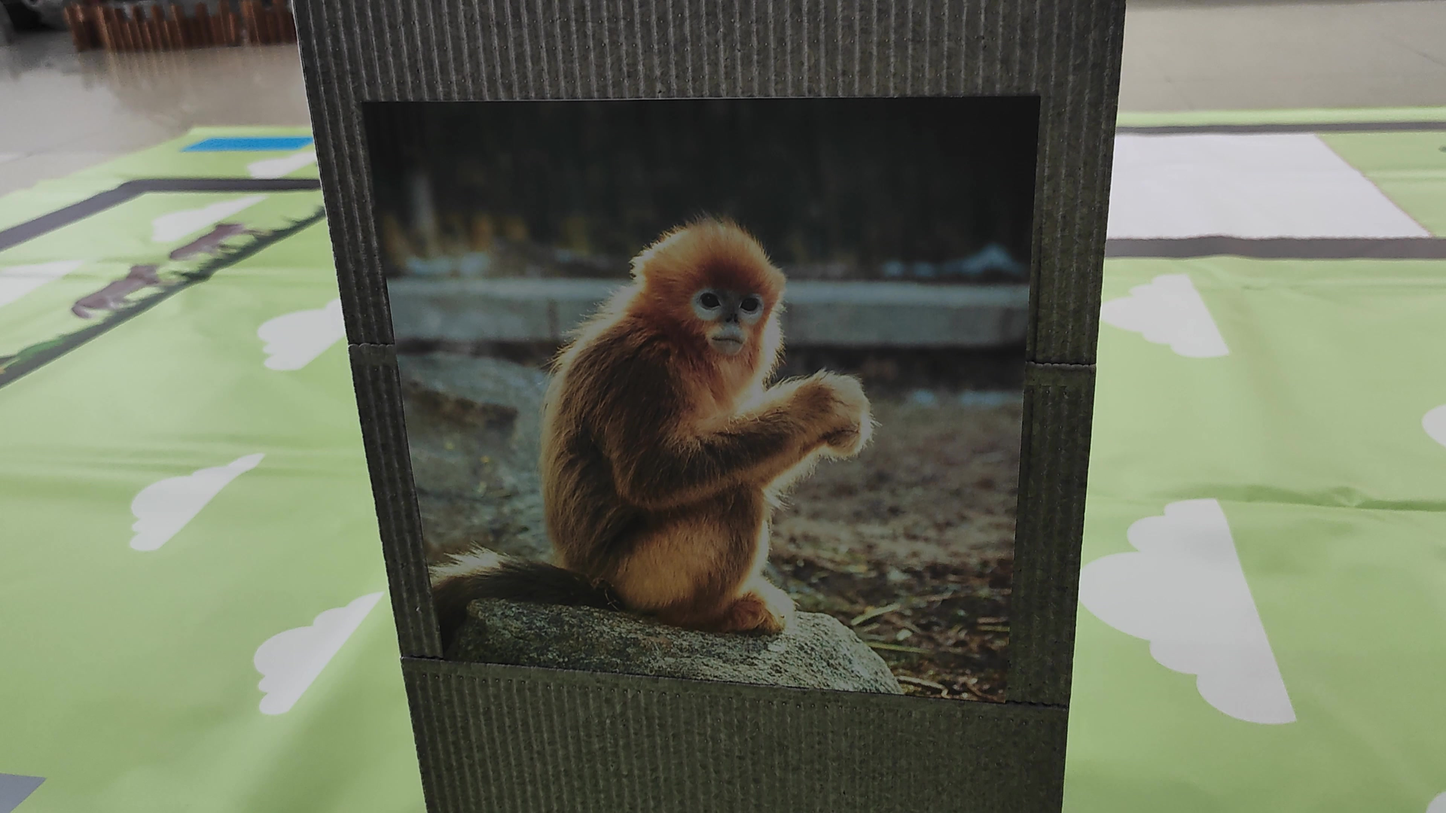monkey: (435, 177, 885, 677)
